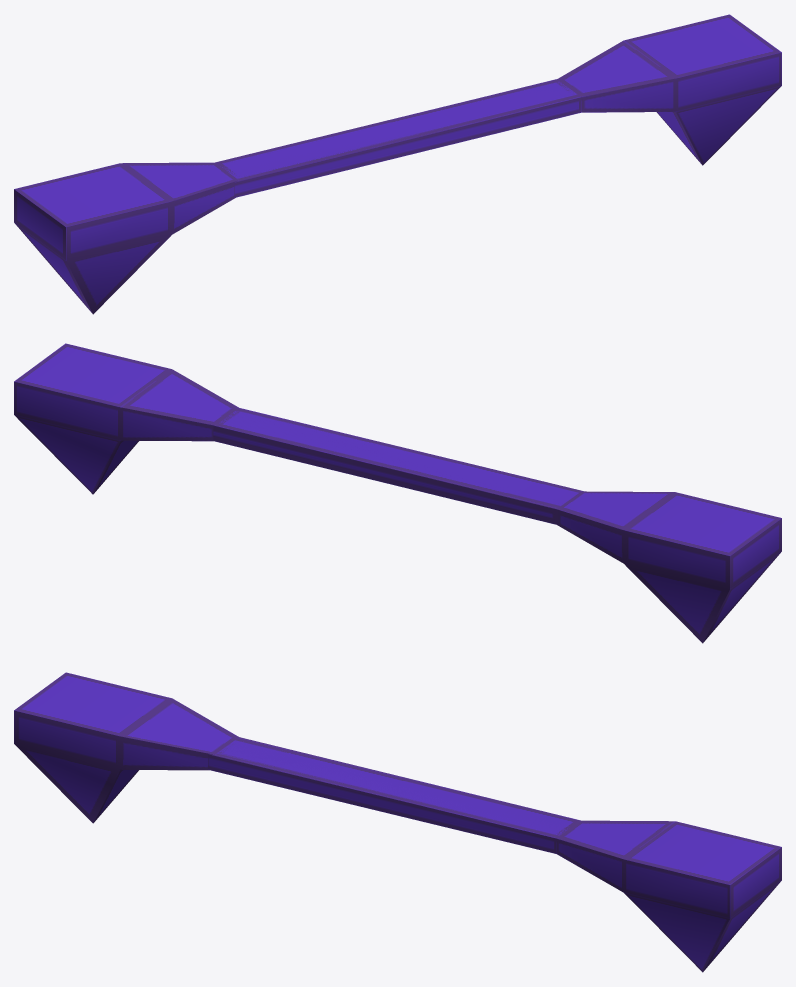
The model's file is bridge.obj.
3 renders of one model, top to bottom at view 1: azimuth 30°, elevation 25°; view 2: azimuth 150°, elevation 25°; view 3: azimuth 330°, elevation 25°, orthographic.
Visible parts, largest first — view 1: pCube30; view 2: pCube30; view 3: pCube30.
Boxes of the visible parts, box(x1,y1,x2,y2) form: pCube30: box(14, 14, 781, 314); pCube30: box(14, 343, 781, 643); pCube30: box(14, 672, 781, 972).
Bounding box in the file's own units: 28.37 × 4.52 × 3.58.
1 material, 1 textured.
